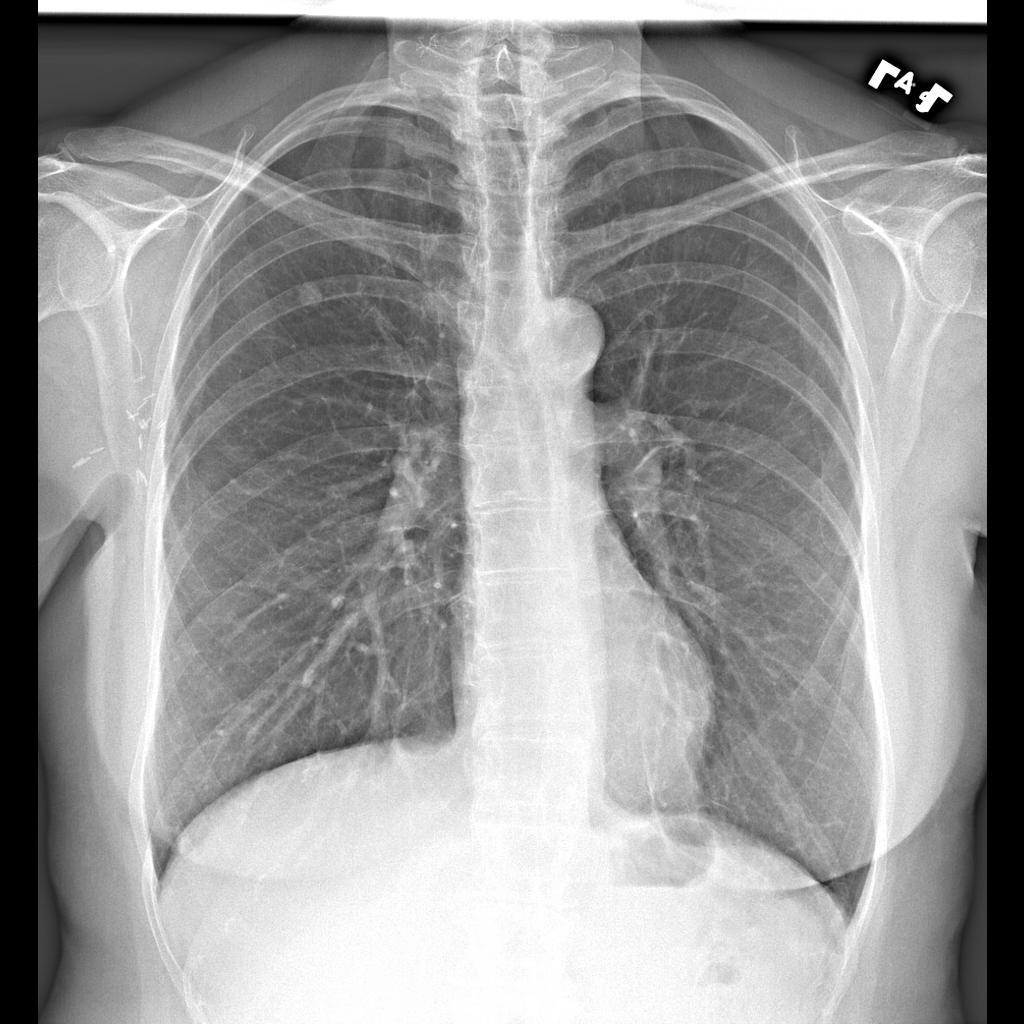Nodule: (287, 279, 336, 318)
